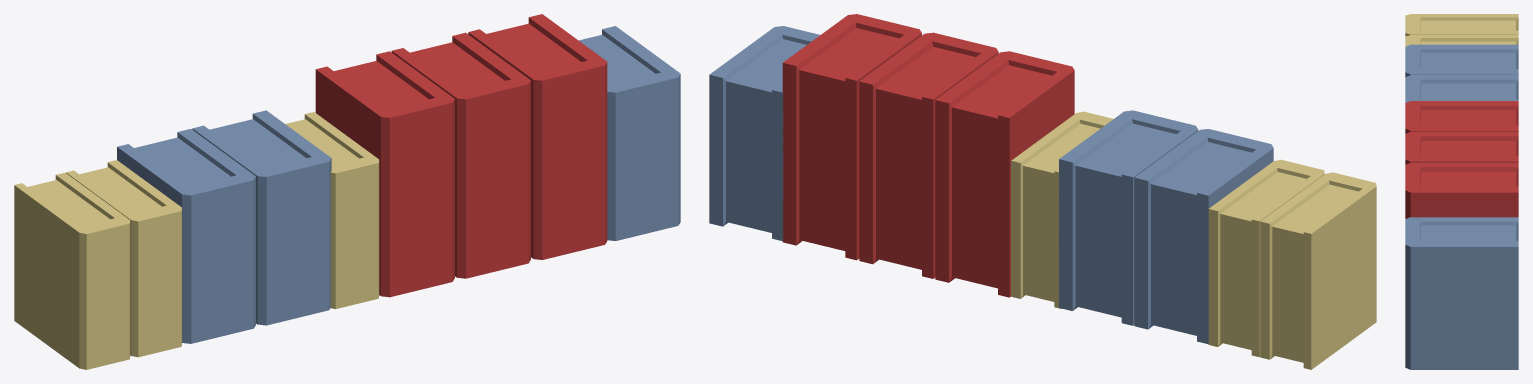
Rendered from bookstack6.fbx.
The picture shows the model from 3 angles, left to right: view 1: azimuth 30°, elevation 25°; view 2: azimuth 150°, elevation 25°; view 3: azimuth 270°, elevation 25°; orthographic projection. The views are drawn at different scales.
Visible parts, largest first — view 1: bookstack6; view 2: bookstack6; view 3: bookstack6.
Part boxes in pixels (bbox=[...]): bookstack6: bbox=[14, 14, 680, 369]; bookstack6: bbox=[709, 14, 1376, 369]; bookstack6: bbox=[1405, 14, 1518, 369].
Size of the model in its own units: 82.12 by 23.4 by 16.19.
